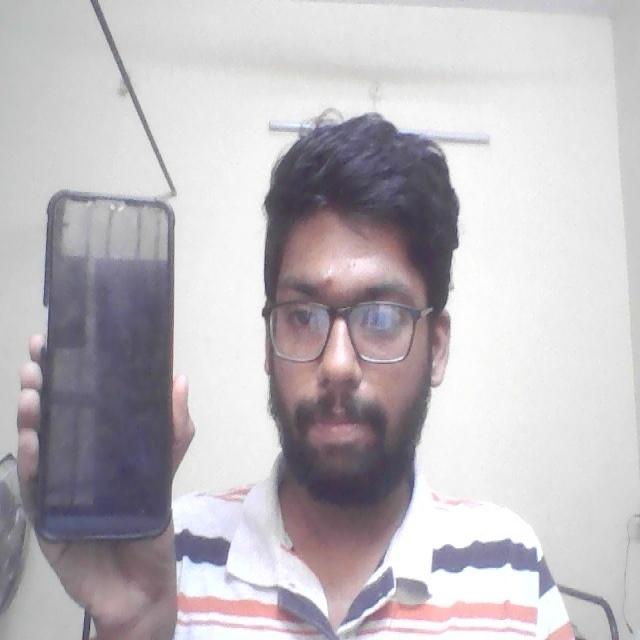Mobile: (29, 182, 179, 546)
